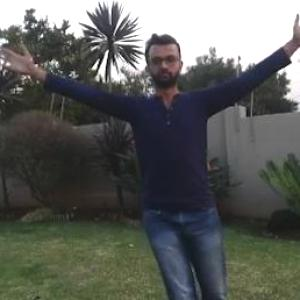takeoff: (2, 28, 300, 299)
